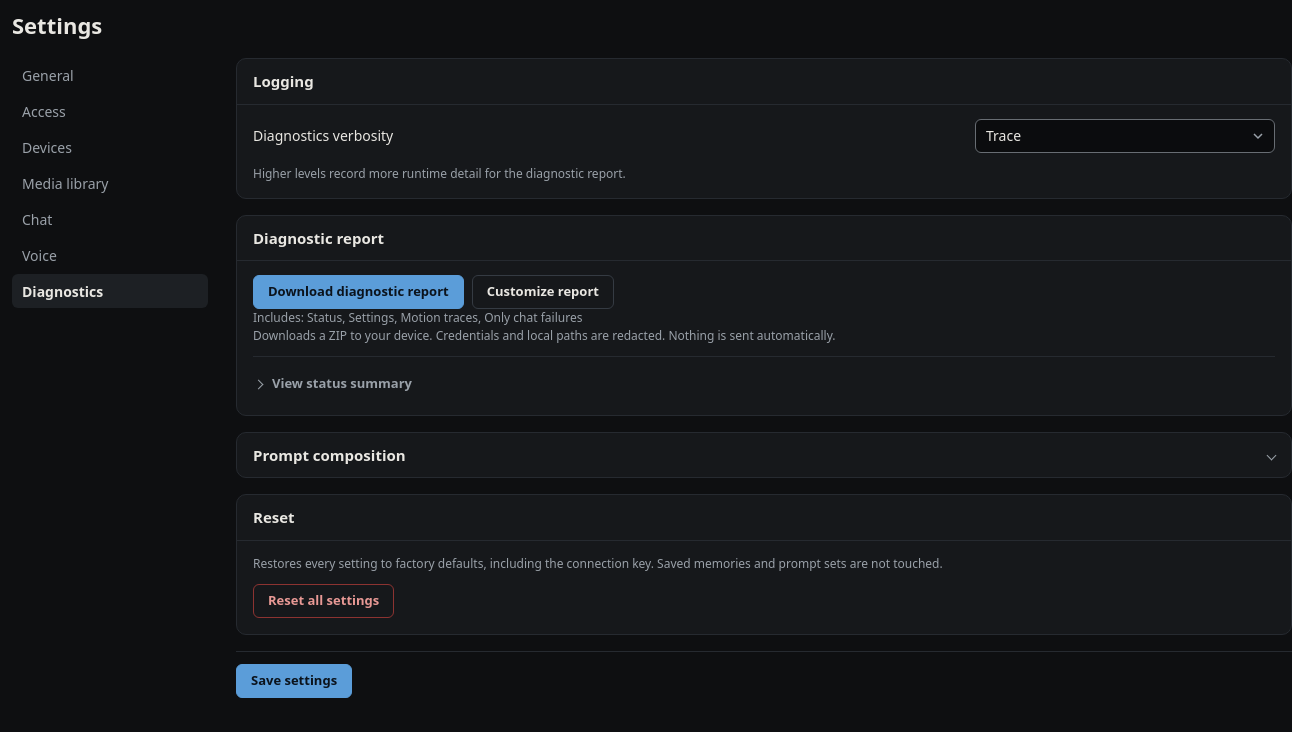
Scenario: SettingsRoute › applies reset defaults when runtime teardown reports a partial failure
Expected: the dropdown labelled "Diagnostics verbosity" shows "Trace", [975,119,1275,153]
Click the button "Reset all settings" at (324, 601), box [253,584,394,618]
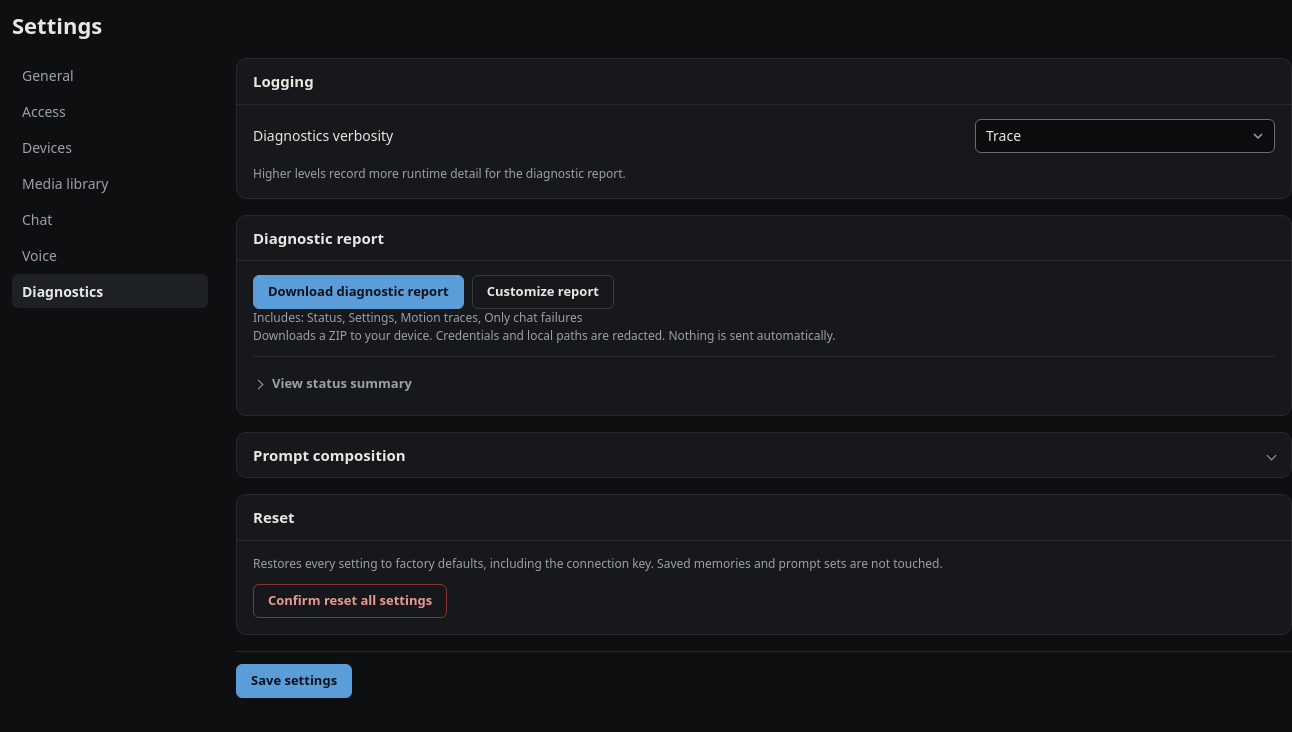
Click the button "Confirm reset all settings" at (350, 601), box [253,584,447,618]
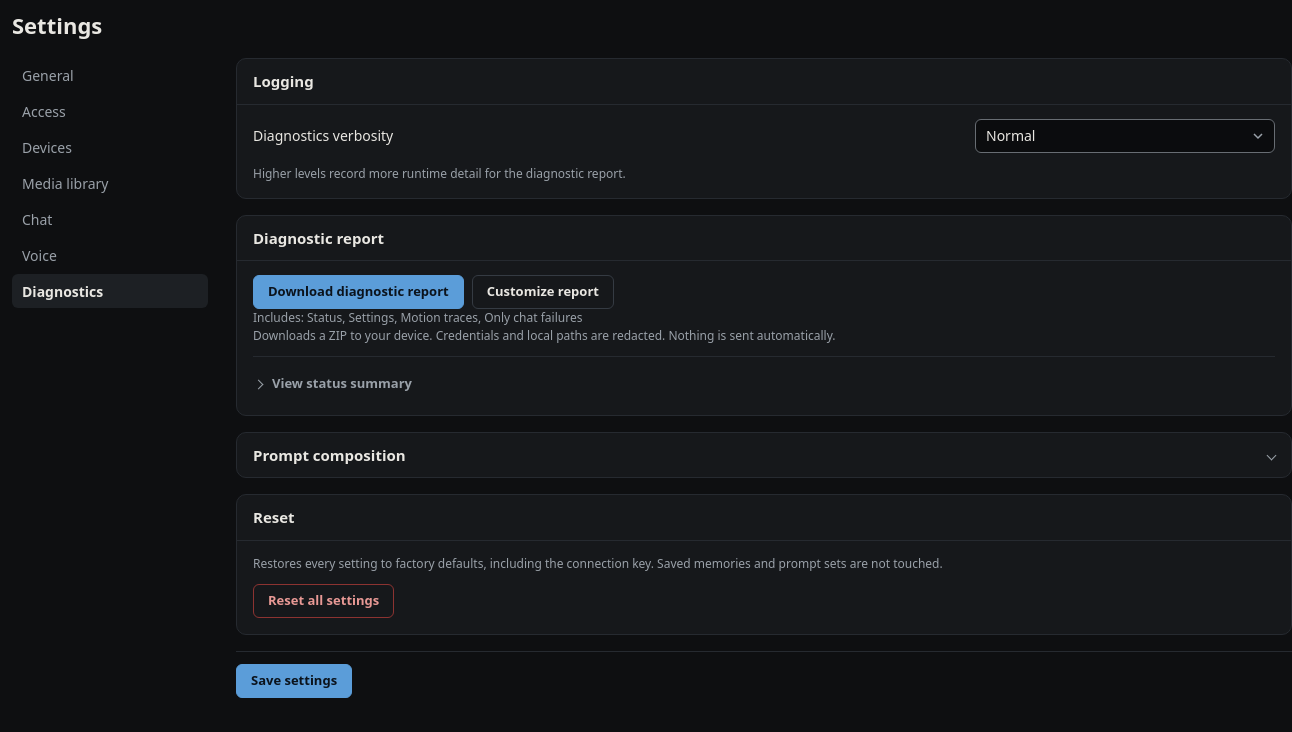
Now the dropdown labelled "Diagnostics verbosity" shows "Normal", box [975,119,1275,153]
